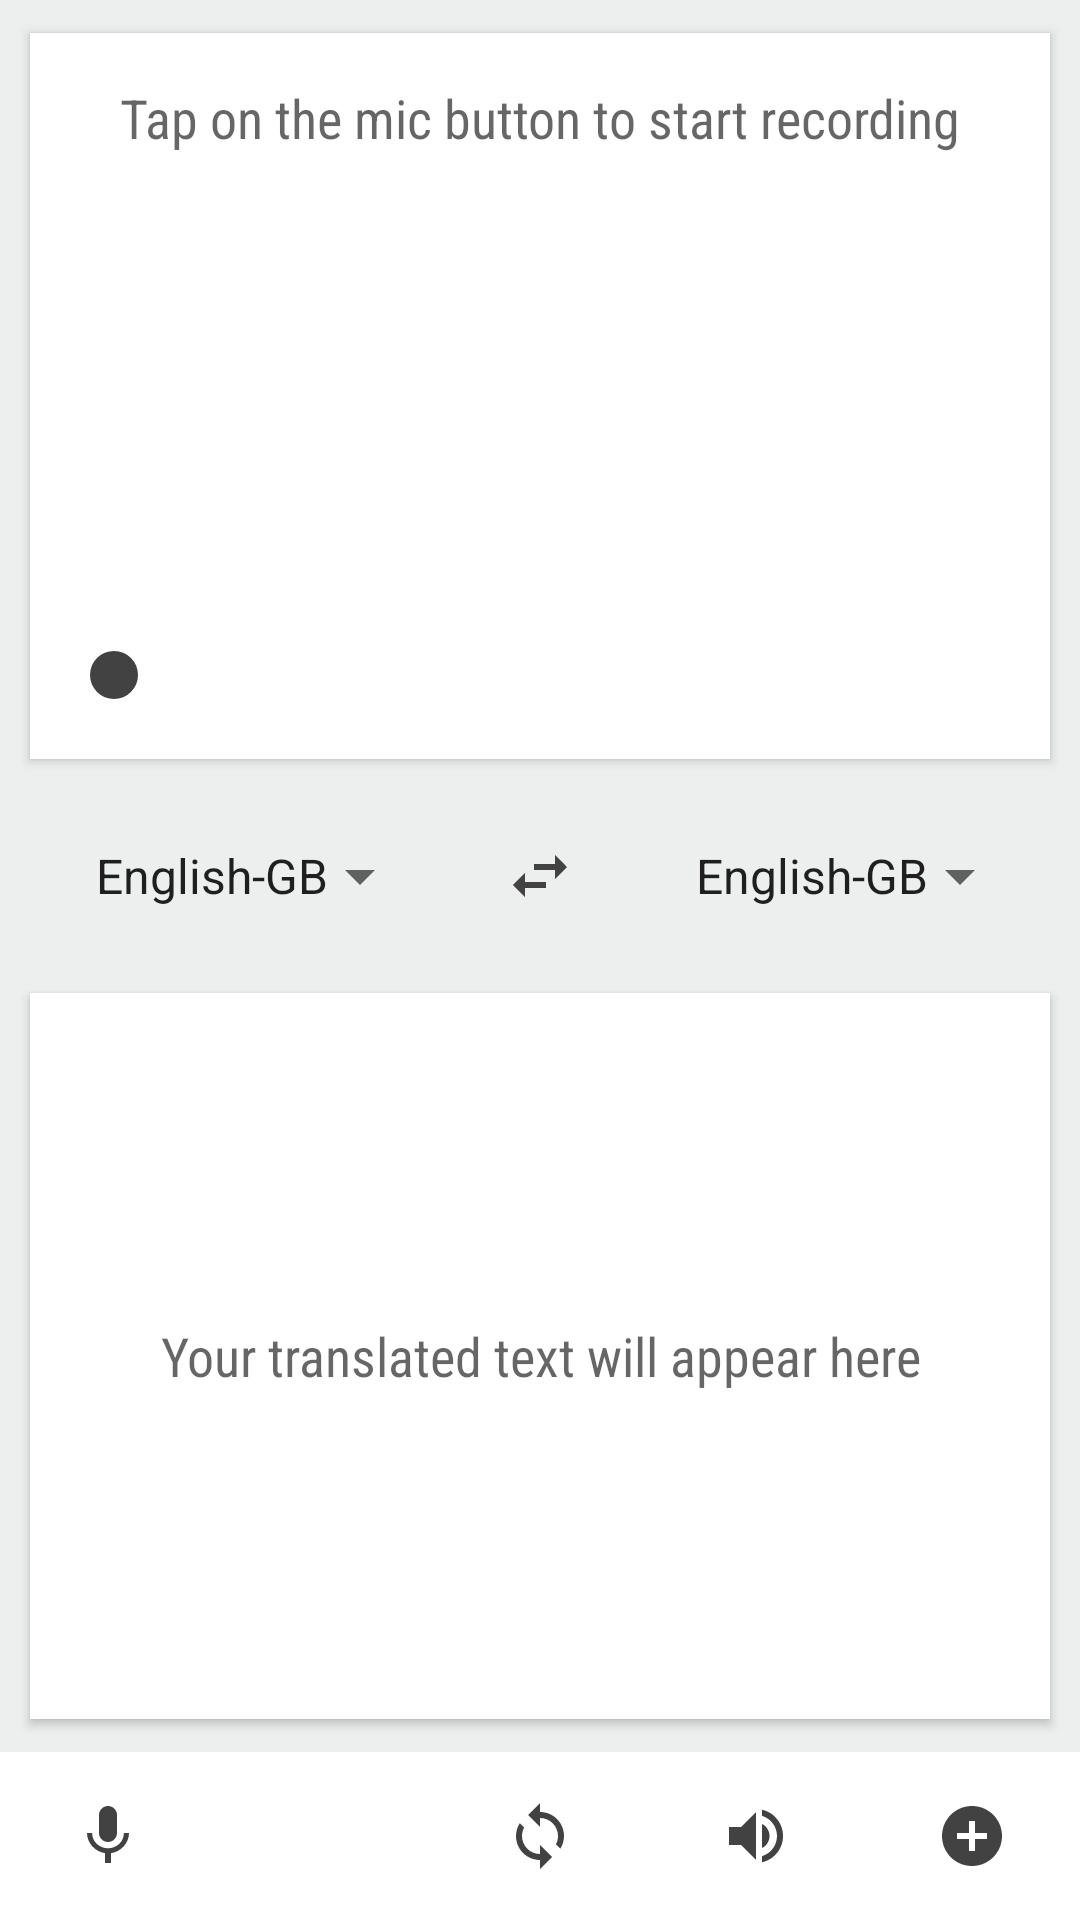

Named icons in this screenshot (1080px x 1920px) and their centers, (x,y):
mic: (108,1834)
play: (756,1836)
swap: (540,876)
